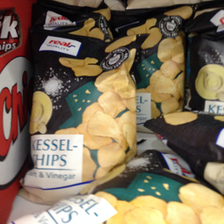chips: (23, 33, 138, 203)
